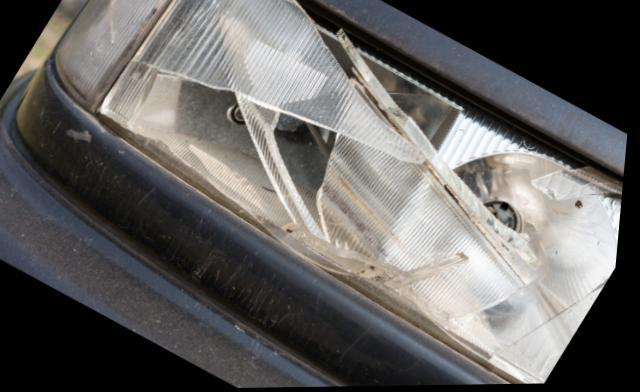lamp broken: (94, 0, 627, 386)
